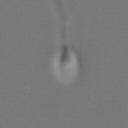normal: (47, 1, 77, 44)
